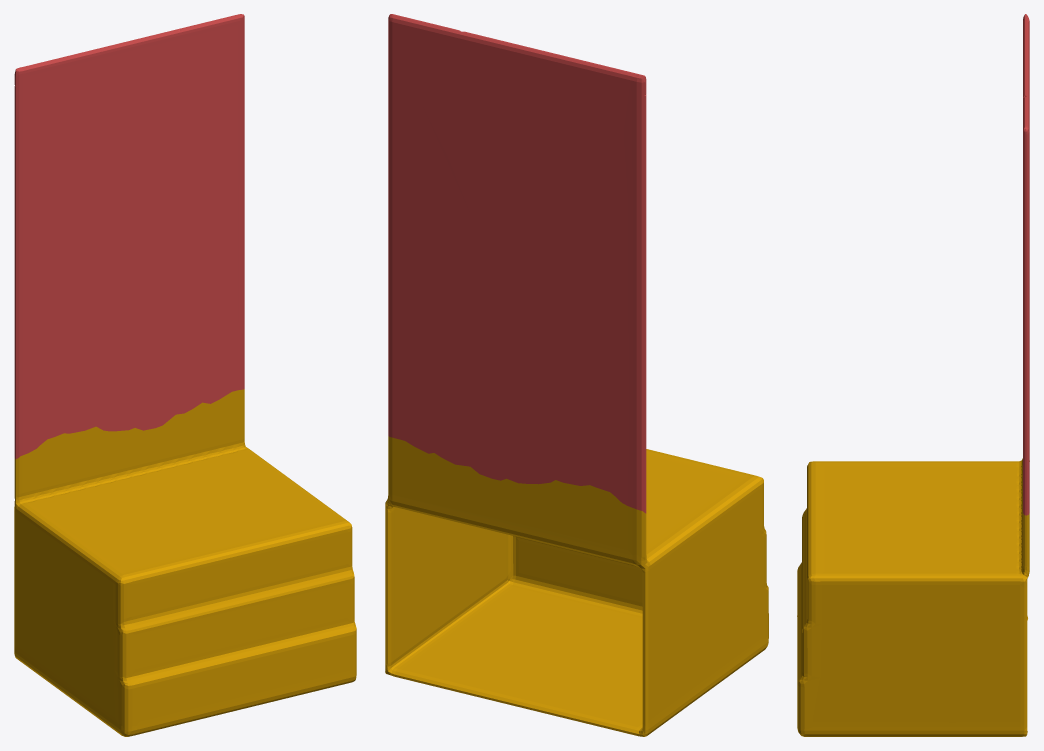
Rendered from fractured_19_2pcs.glb.
3 views of the same model, side by side, from view 1: azimuth 30°, elevation 25°; view 2: azimuth 150°, elevation 25°; view 3: azimuth 270°, elevation 25° (orthographic). The views are drawn at different scales.
Parts seen in each view (by area): view 1: piece_0.obj, piece_1.obj; view 2: piece_1.obj, piece_0.obj; view 3: piece_0.obj, piece_1.obj.
Part boxes in pixels (<box>): piece_0.obj: <box>14,389,356,736</box>; piece_1.obj: <box>14,14,244,459</box>; piece_1.obj: <box>388,14,646,513</box>; piece_0.obj: <box>385,436,768,736</box>; piece_0.obj: <box>797,458,1029,736</box>; piece_1.obj: <box>1023,14,1029,515</box>.
Bounding box in the file's own units: 0.4162 × 1 × 0.3467.
